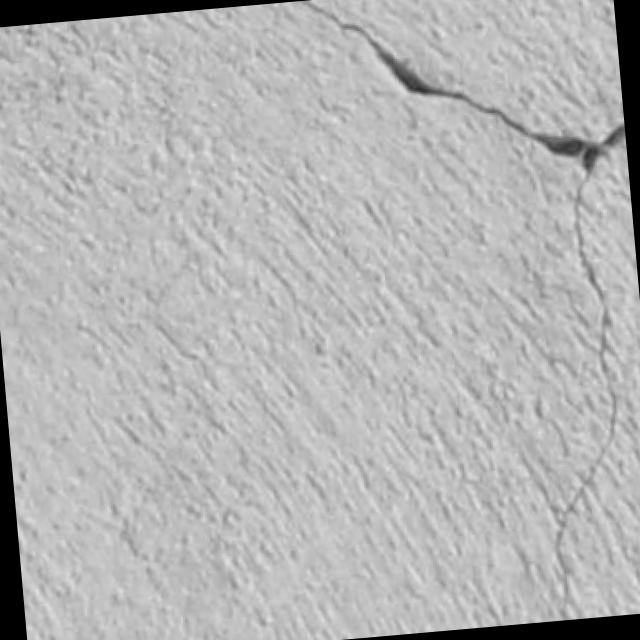crack: (301, 0, 625, 617), (301, 0, 625, 171), (301, 0, 616, 171), (555, 166, 619, 615)
